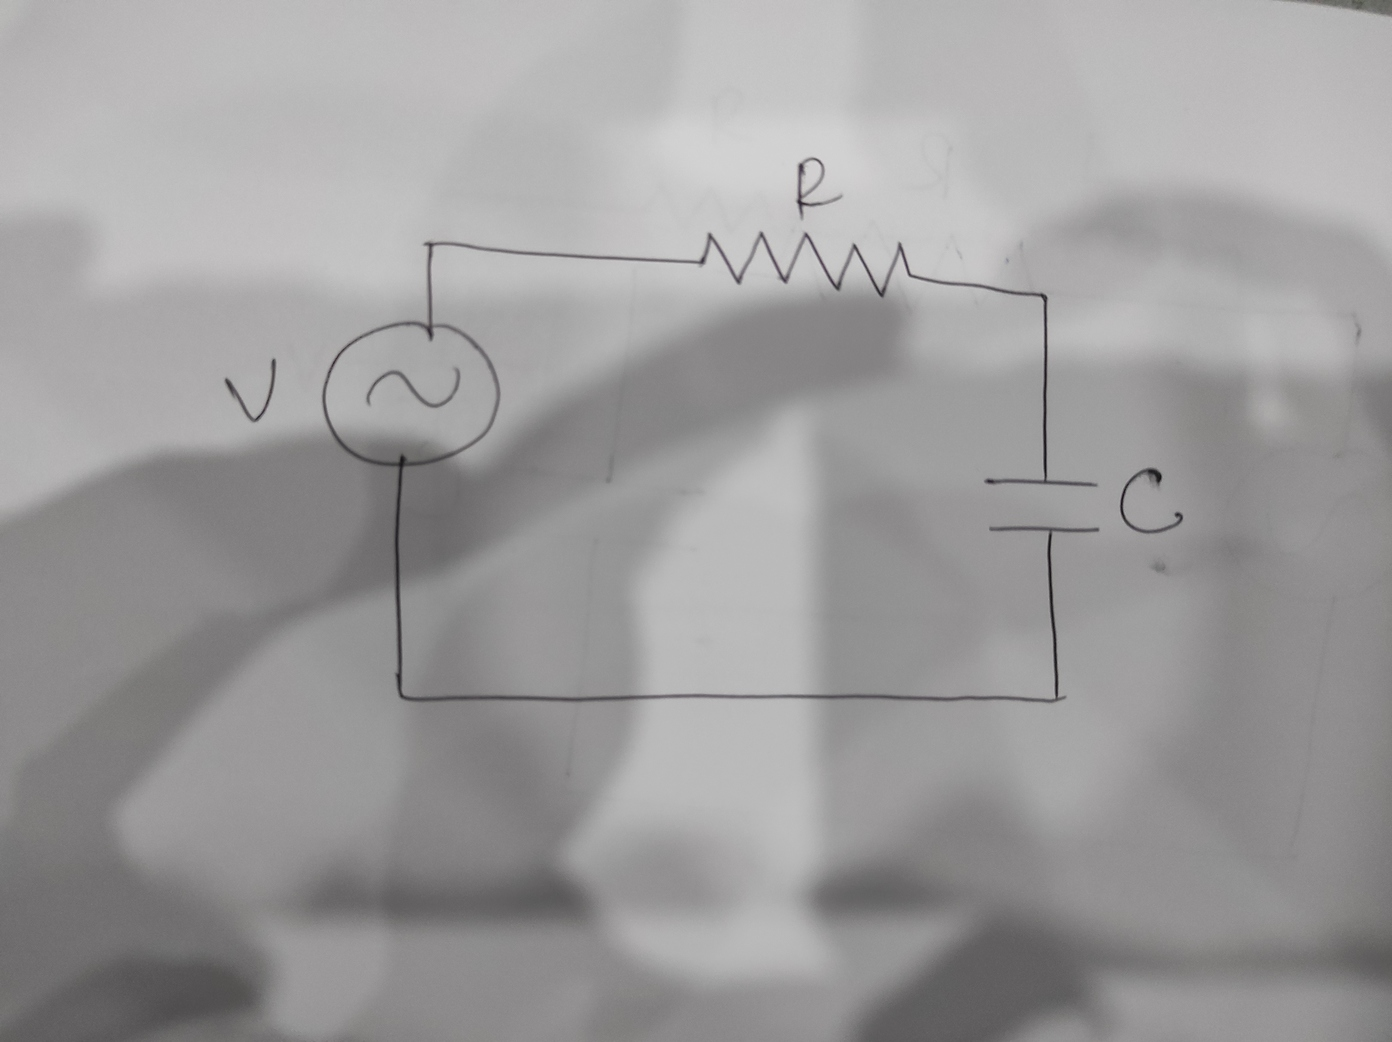capacitor.unpolarized: (981, 468, 1107, 543)
junction: (414, 231, 446, 262), (1025, 283, 1059, 311), (386, 682, 414, 709), (1043, 685, 1072, 710)
resistor: (693, 228, 918, 300)
text: (1117, 464, 1188, 539), (223, 358, 281, 425), (792, 154, 847, 224)
voltage.dc_ac: (315, 317, 508, 473)
